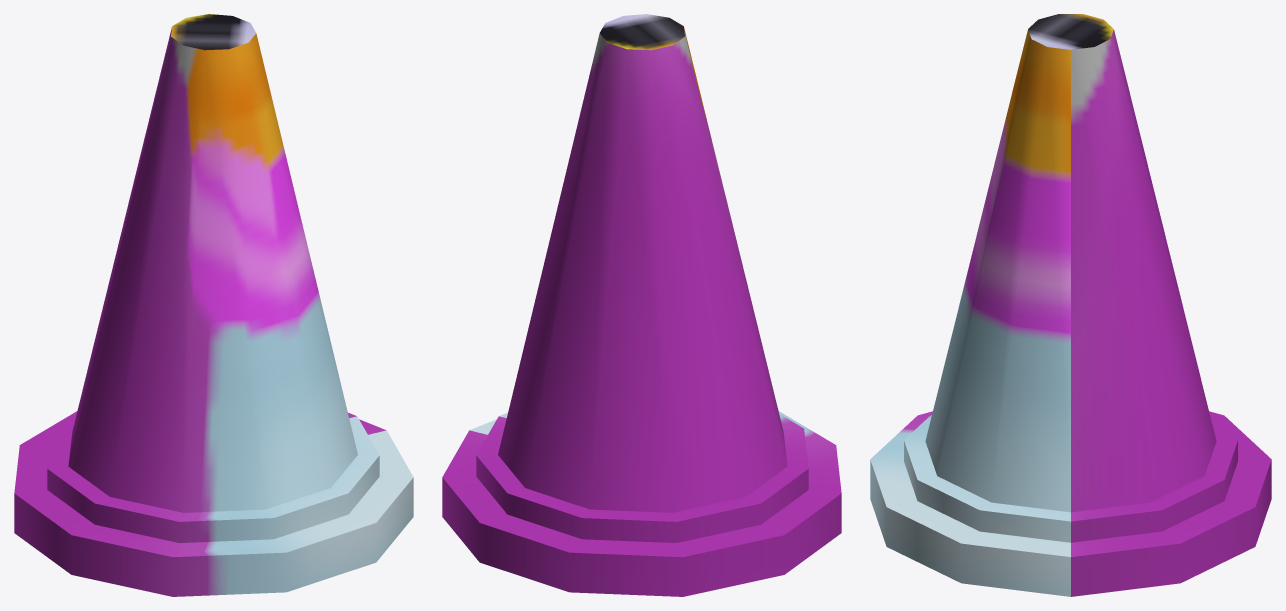
File: dif3.fbx
3 views of the same model, side by side, from view 1: azimuth 30°, elevation 25°; view 2: azimuth 150°, elevation 25°; view 3: azimuth 270°, elevation 25° (orthographic).
Visible parts, largest first — view 1: Cylinder.004; view 2: Cylinder.004; view 3: Cylinder.004.
Part boxes in pixels (x1,y1,x2,y2): Cylinder.004: [14, 14, 413, 596]; Cylinder.004: [442, 14, 841, 596]; Cylinder.004: [870, 14, 1271, 596].
Size of the model in its own units: 182 by 243 by 184.
